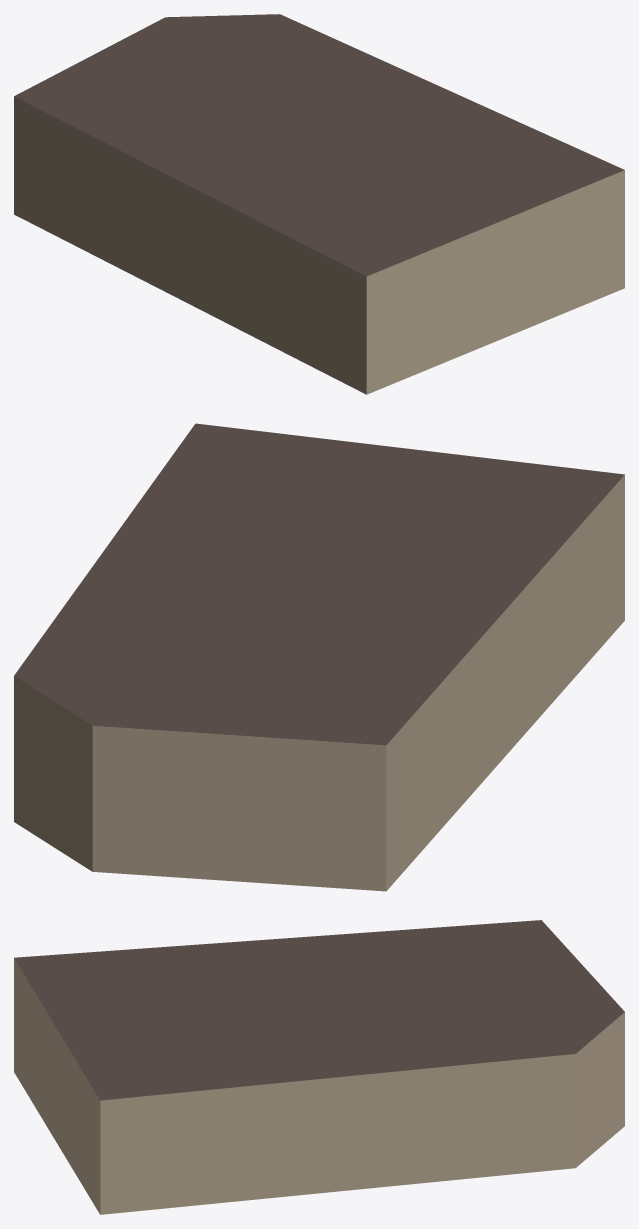
3 views of the same model, one above another, from view 1: azimuth 30°, elevation 25°; view 2: azimuth 150°, elevation 25°; view 3: azimuth 270°, elevation 25° (orthographic). The views are drawn at different scales.
Visible parts, largest first — view 1: HP-w1199660262; view 2: HP-w1199660262; view 3: HP-w1199660262.
Part boxes in pixels (box(x1,y1,x2,y2)): HP-w1199660262: box(14, 14, 624, 394); HP-w1199660262: box(14, 423, 624, 891); HP-w1199660262: box(14, 920, 624, 1214).
Size of the model in its own units: 30.48 by 9 by 43.6.
